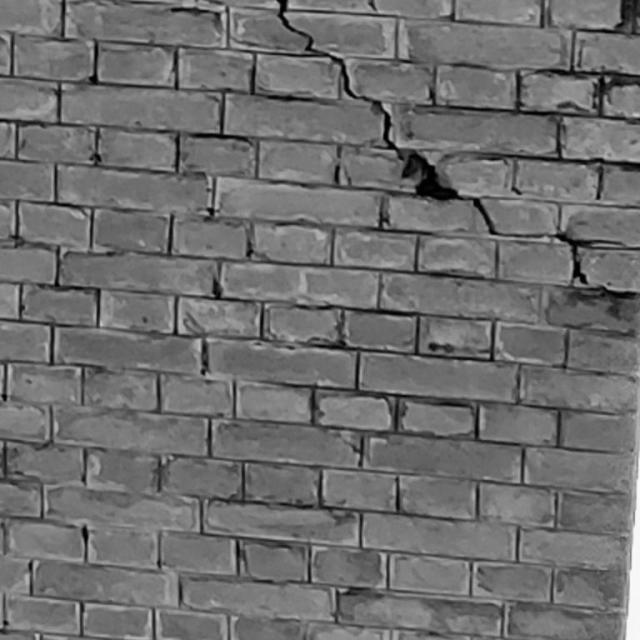crack: (277, 1, 638, 299)
